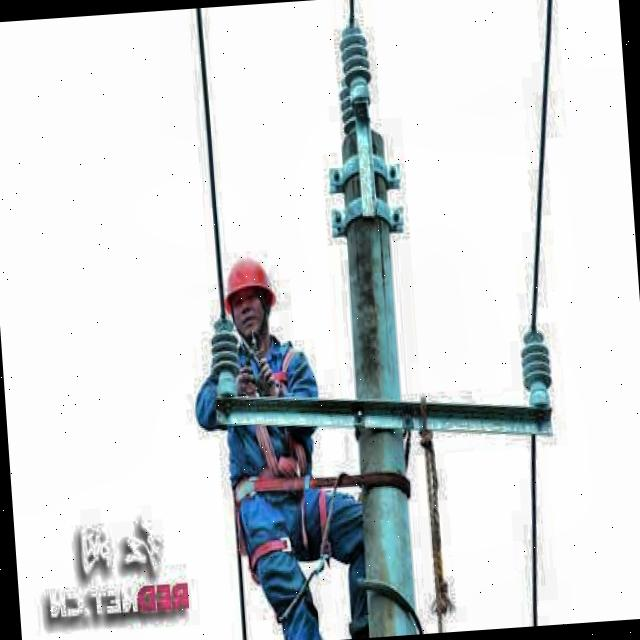helmet: (219, 247, 281, 349)
